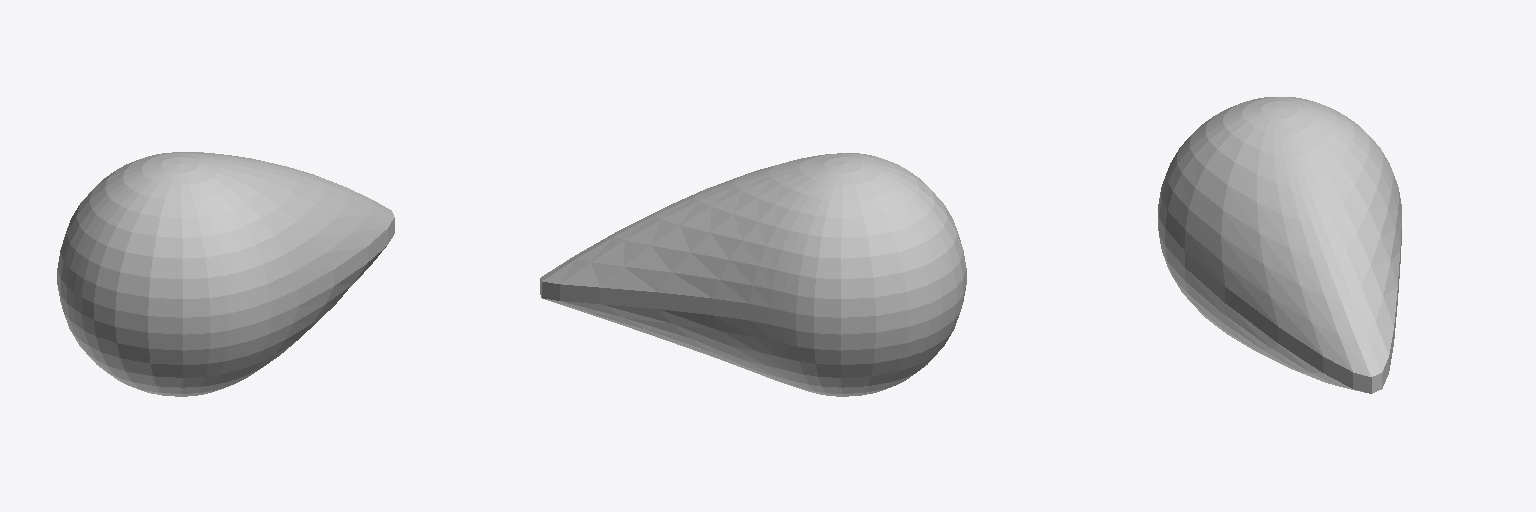
The model's file is simplemodel.obj.
The picture shows the model from 3 angles: view 1: azimuth 30°, elevation 25°; view 2: azimuth 150°, elevation 25°; view 3: azimuth 270°, elevation 25°; orthographic projection.
Visible parts, largest first — view 1: SurfSphere_Mesh; view 2: SurfSphere_Mesh; view 3: SurfSphere_Mesh.
Boxes of the visible parts, <box> form: SurfSphere_Mesh: <box>57,152,394,396</box>; SurfSphere_Mesh: <box>540,153,966,396</box>; SurfSphere_Mesh: <box>1158,97,1401,393</box>.
Bounding box in the file's own units: 21.6 × 12.58 × 12.54.